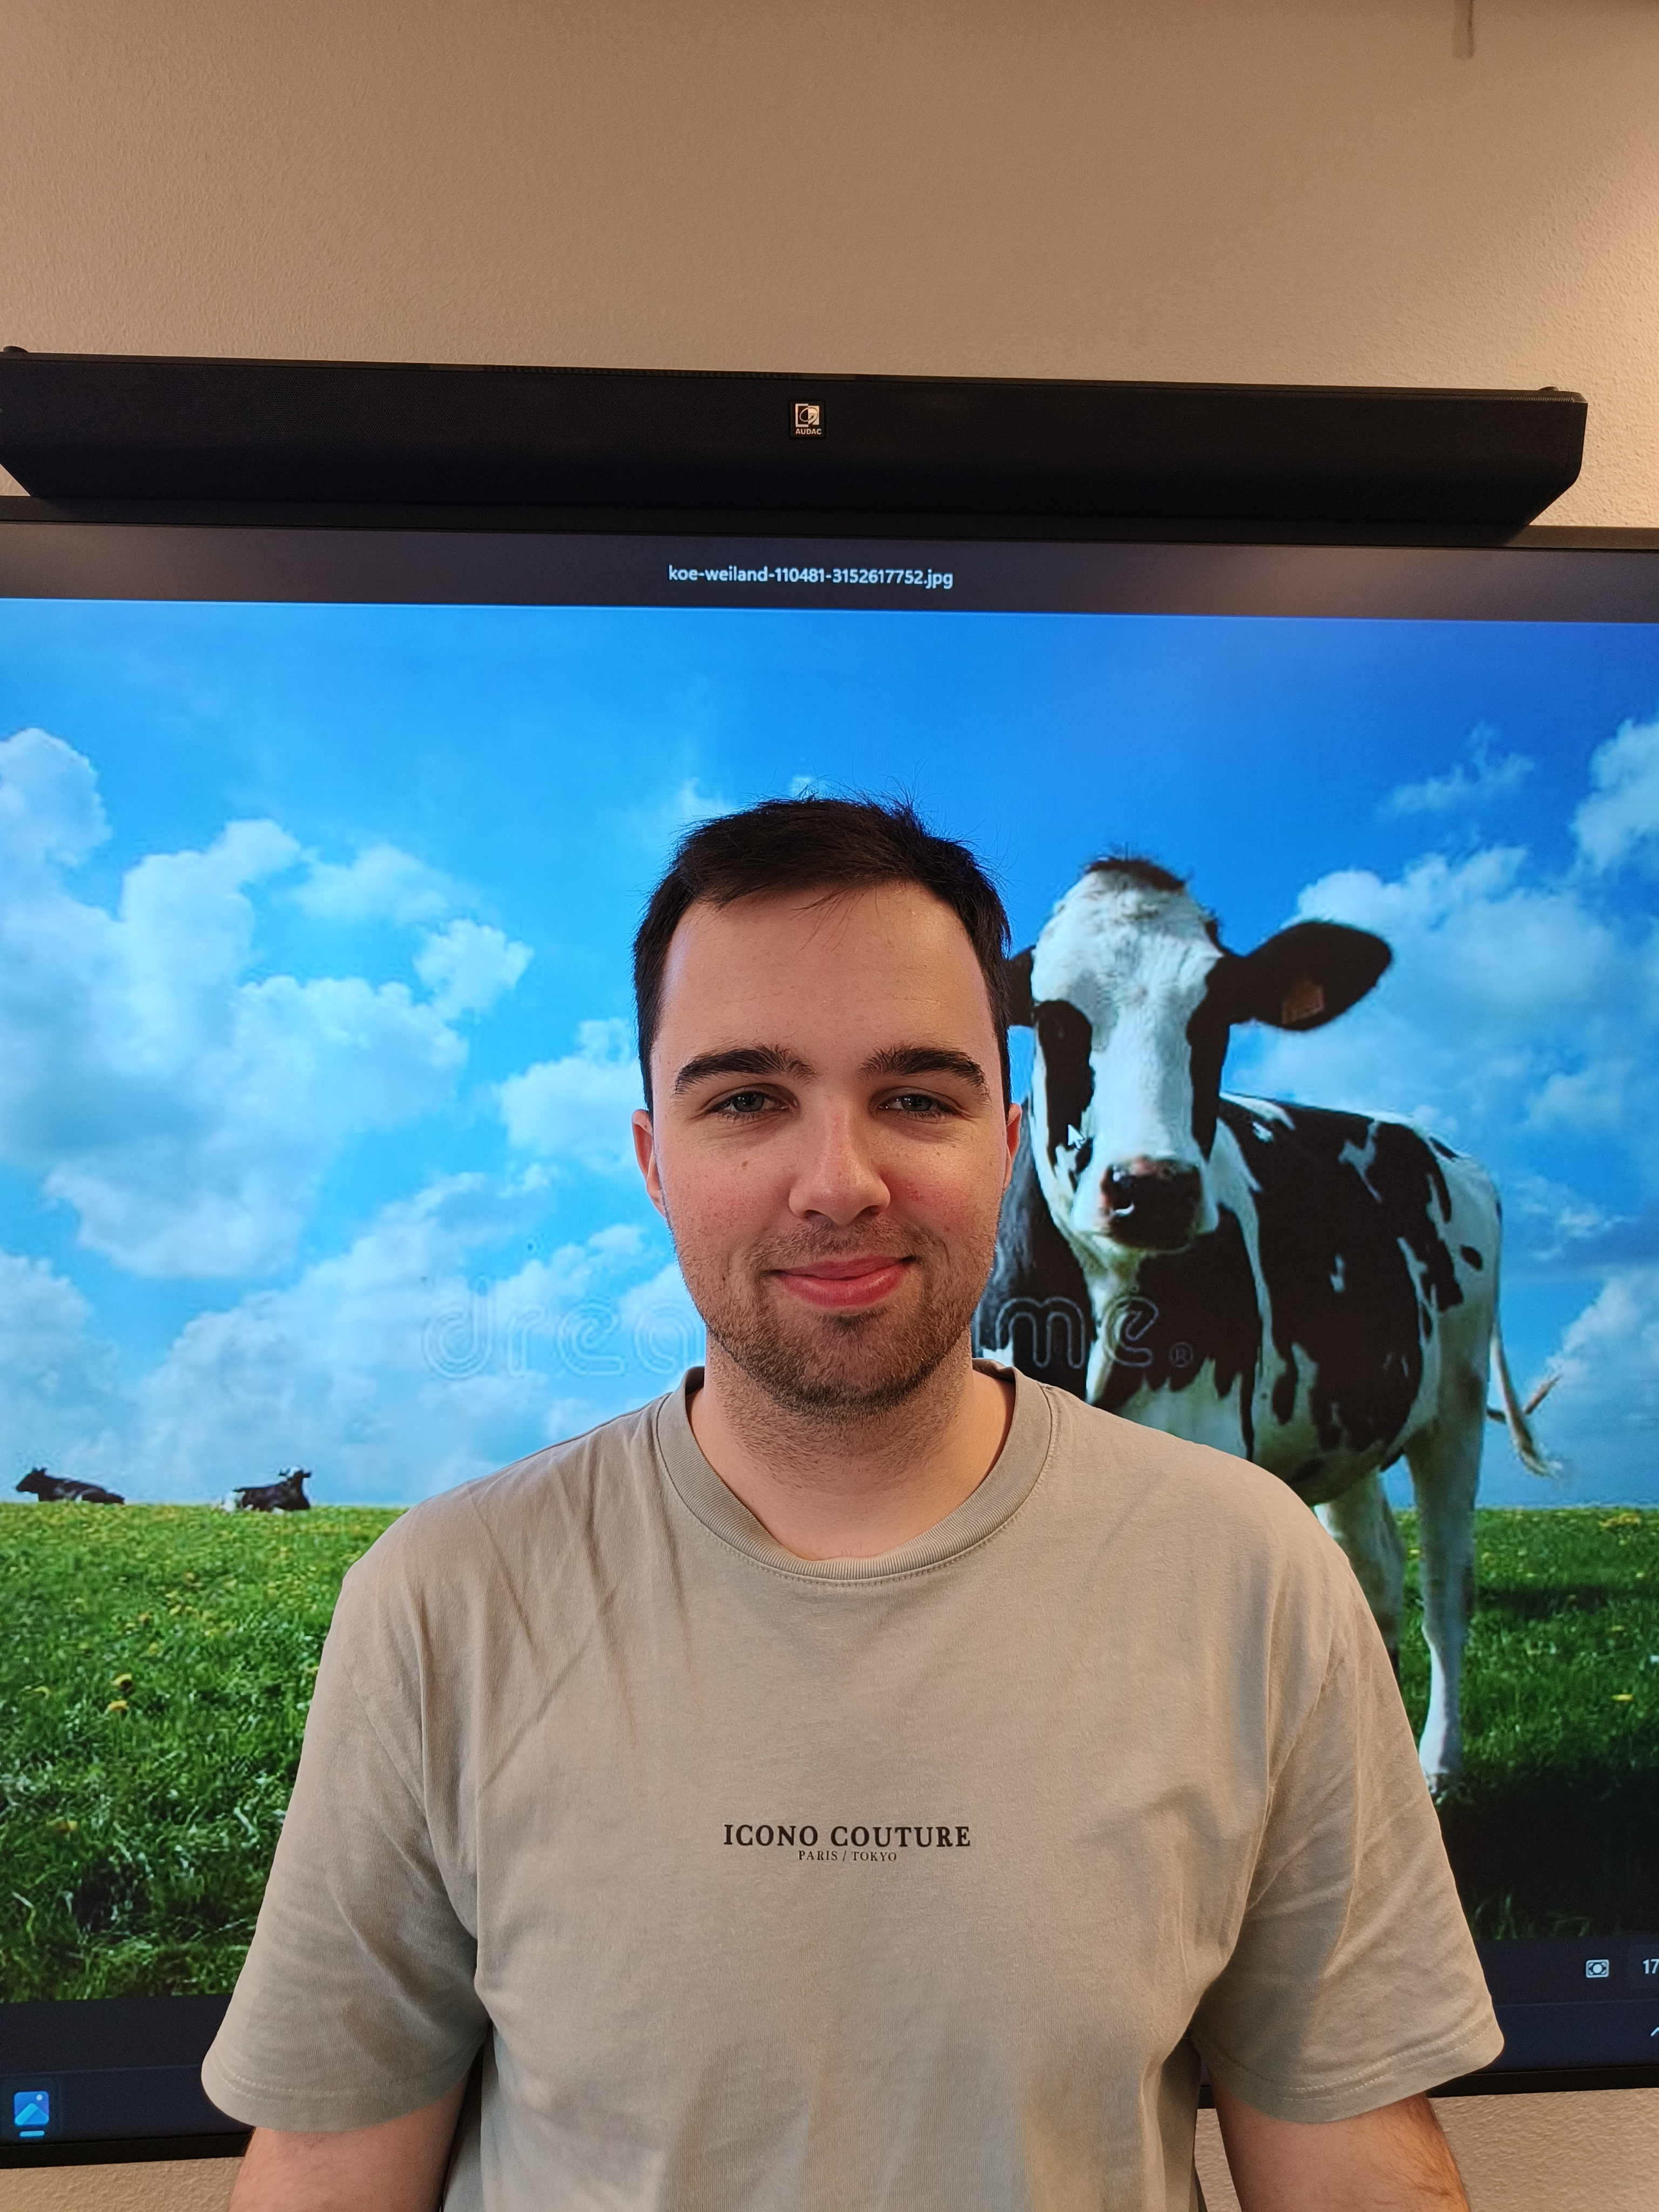face: (615, 799, 1019, 1426)
